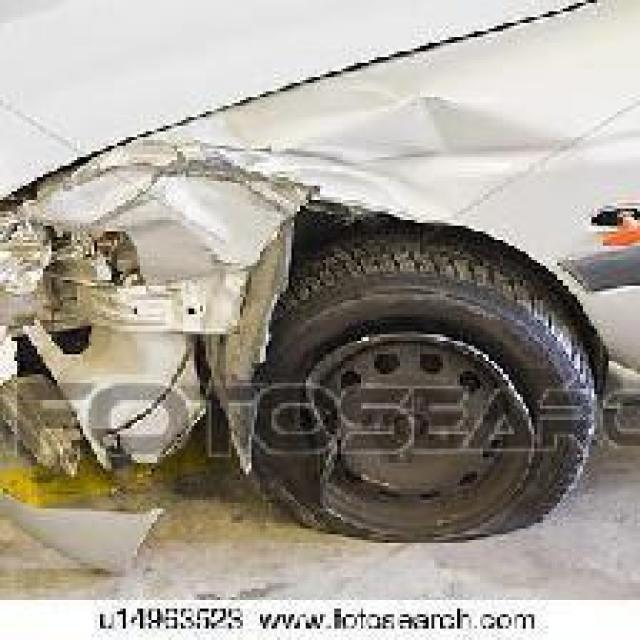damaged: (0, 134, 451, 382)
